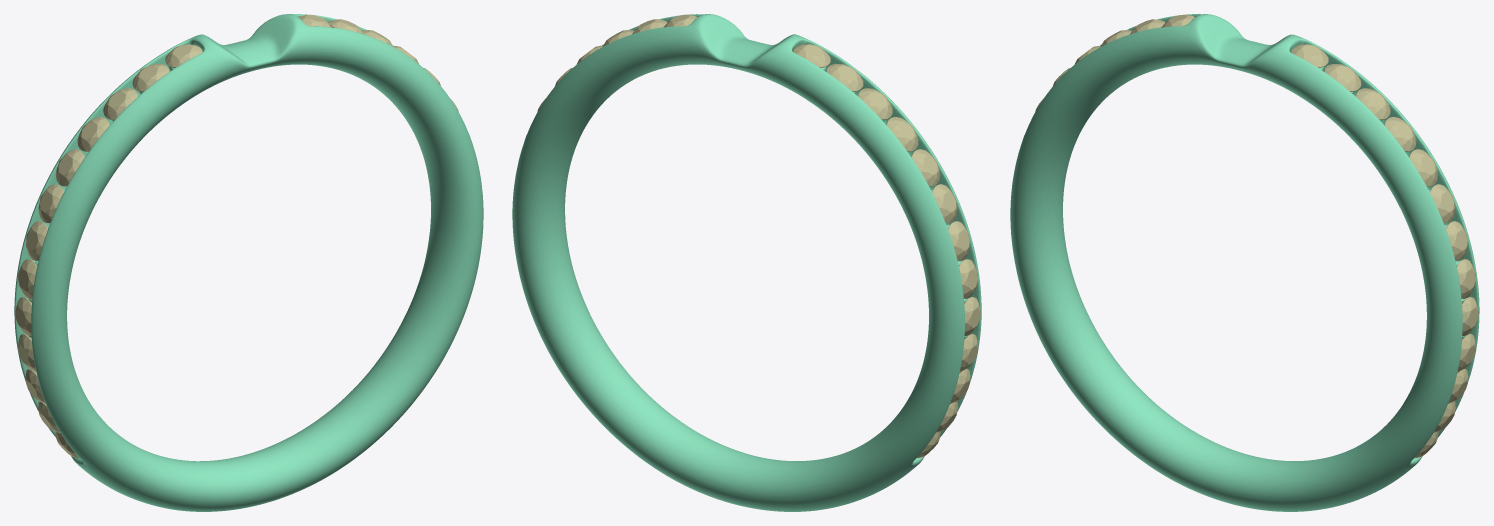
3 views of the same model, side by side, from view 1: azimuth 30°, elevation 25°; view 2: azimuth 150°, elevation 25°; view 3: azimuth 330°, elevation 25° (orthographic).
Visible parts, largest first — view 1: Metal02, Diamond_Gem.003, Diamond_Gem.004, Diamond_Gem.002, Diamond_Gem.005, Diamond_Gem.001, Diamond_Gem.006, Diamond_Gem.007, Diamond_Gem, Diamond_Gem.008; view 2: Metal02, Diamond_Gem.003, Diamond_Gem.004, Diamond_Gem.002, Diamond_Gem.005, Diamond_Gem.001, Diamond_Gem.006, Diamond_Gem.007, Diamond_Gem; view 3: Metal02, Diamond_Gem.022, Diamond_Gem.021, Diamond_Gem.023, Diamond_Gem.020, Diamond_Gem.024, Diamond_Gem.019, Diamond_Gem.018, Diamond_Gem.025, Diamond_Gem.017.
Boxes of the visible parts, bbox=[...] form: Metal02: bbox=[14, 14, 483, 511]; Diamond_Gem.003: bbox=[77, 117, 109, 151]; Diamond_Gem.004: bbox=[55, 149, 84, 186]; Diamond_Gem.002: bbox=[103, 88, 137, 119]; Diamond_Gem.005: bbox=[38, 184, 63, 223]; Diamond_Gem.001: bbox=[132, 64, 169, 91]; Diamond_Gem.006: bbox=[26, 221, 47, 260]; Diamond_Gem.007: bbox=[18, 259, 37, 298]; Diamond_Gem: bbox=[165, 44, 202, 67]; Diamond_Gem.008: bbox=[15, 297, 31, 335]; Metal02: bbox=[512, 14, 981, 511]; Diamond_Gem.003: bbox=[886, 117, 918, 151]; Diamond_Gem.004: bbox=[911, 149, 940, 186]; Diamond_Gem.002: bbox=[858, 88, 892, 119]; Diamond_Gem.005: bbox=[932, 184, 957, 223]; Diamond_Gem.001: bbox=[826, 63, 863, 91]; Diamond_Gem.006: bbox=[948, 221, 969, 260]; Diamond_Gem.007: bbox=[959, 259, 977, 298]; Diamond_Gem: bbox=[793, 44, 830, 67]; Metal02: bbox=[1010, 14, 1479, 511]; Diamond_Gem.022: bbox=[1384, 117, 1416, 151]; Diamond_Gem.021: bbox=[1409, 149, 1437, 186]; Diamond_Gem.023: bbox=[1356, 88, 1390, 119]; Diamond_Gem.020: bbox=[1430, 184, 1455, 223]; Diamond_Gem.024: bbox=[1324, 64, 1361, 91]; Diamond_Gem.019: bbox=[1446, 221, 1467, 260]; Diamond_Gem.018: bbox=[1456, 259, 1475, 298]; Diamond_Gem.025: bbox=[1291, 44, 1328, 67]; Diamond_Gem.017: bbox=[1462, 297, 1478, 335].
Bounding box in the file's own units: 21.22 × 21.1 × 2.47.
